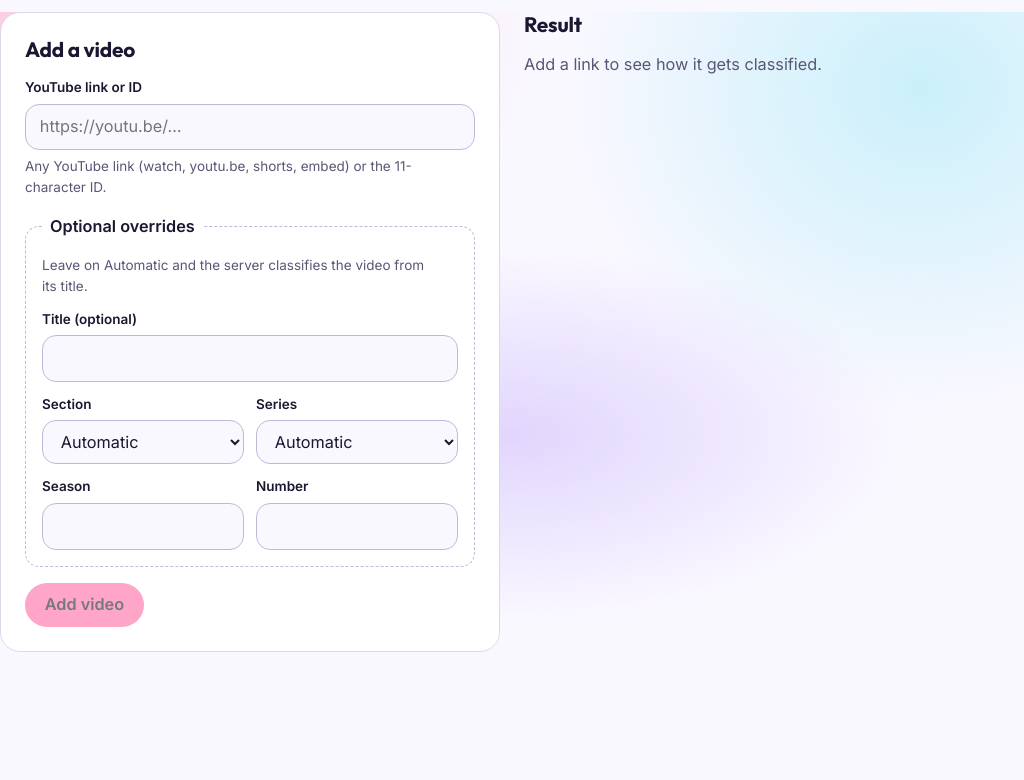
adding a video that is in the trash (409) › says it is in the trash with a link to the Trash tab — never 'Published — it found its home'
In the field labelled "YouTube link or ID": coordinates (250, 127) [25,104,475,150], type "B9498740005"
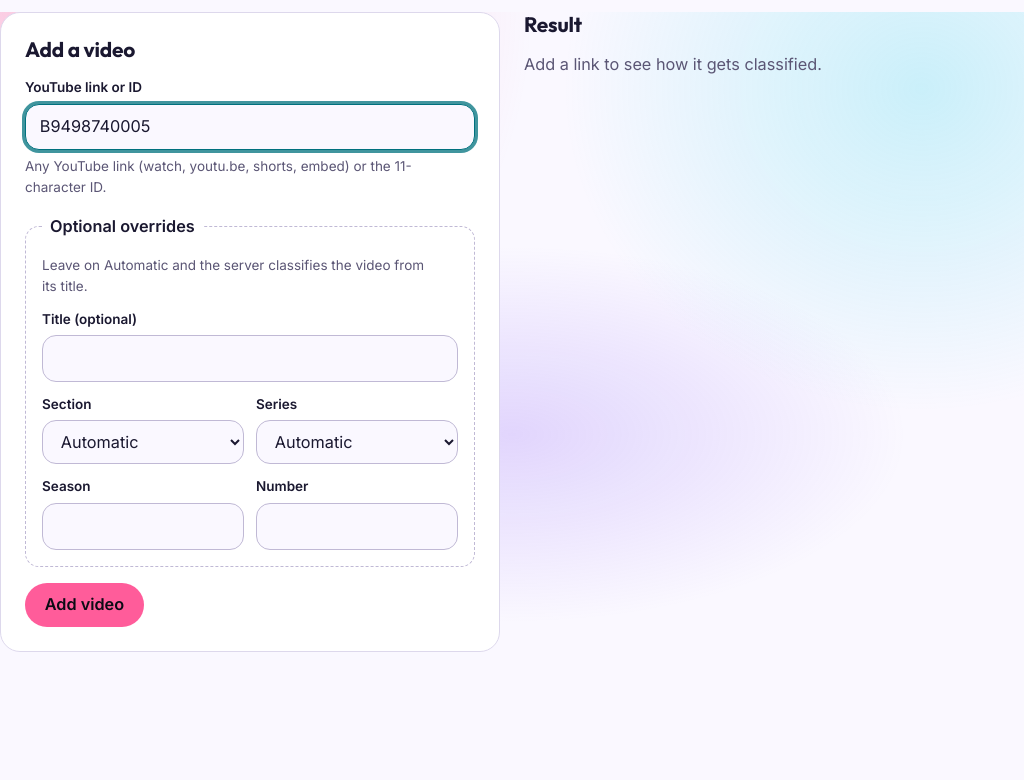
Click the button "Add video": coordinates (84, 605) [25,583,144,627]
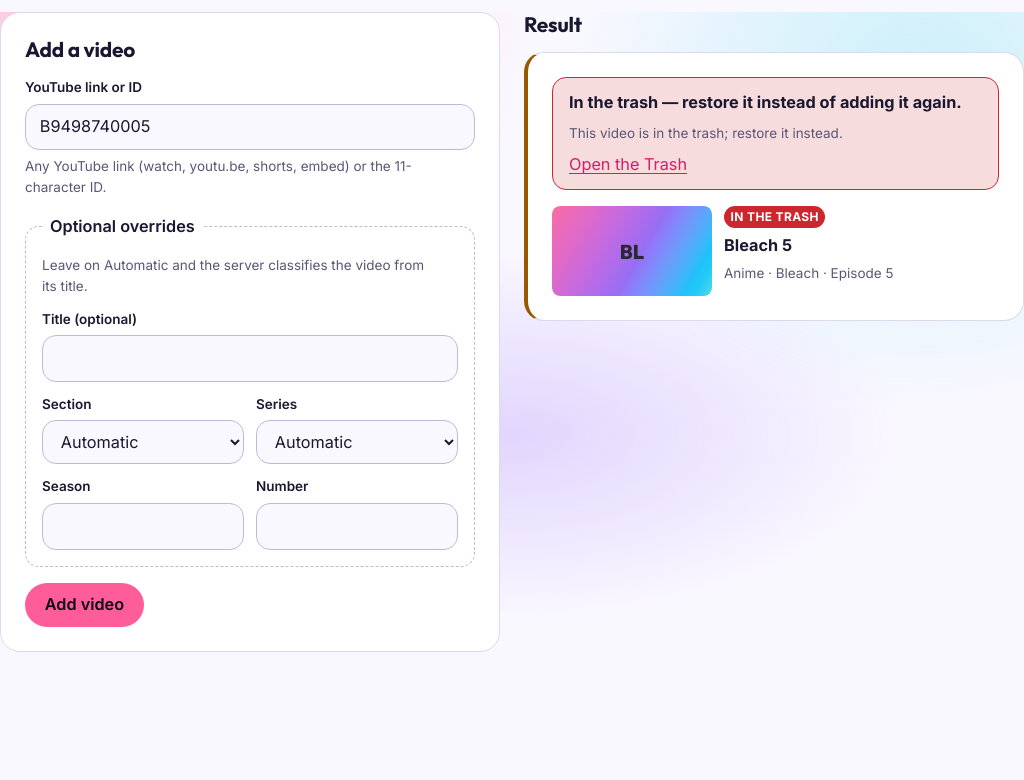
expect the message shows "In the trash — restore it instead of adding it again.": met, box [569,92,962,112]
expect the message shows "This video is in the trash; restore it instead.": met, box [569,125,843,141]
expect the text "In the trash" is shown: met, box [724,206,826,228]
